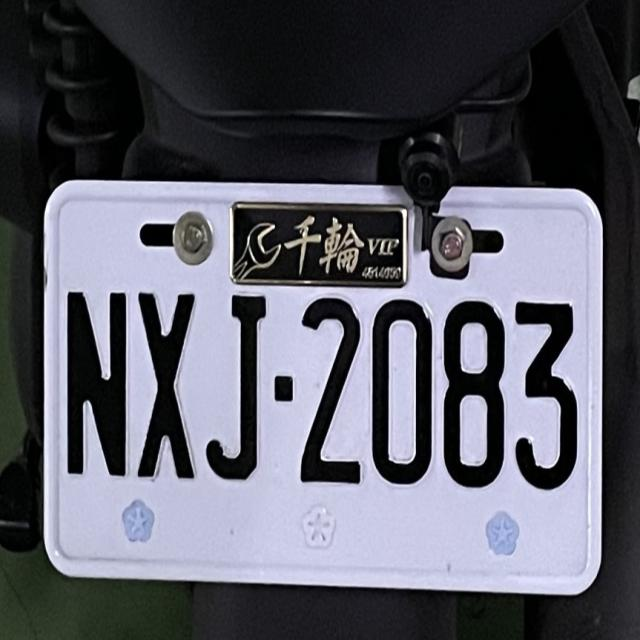license-plate: (37, 168, 608, 600)
